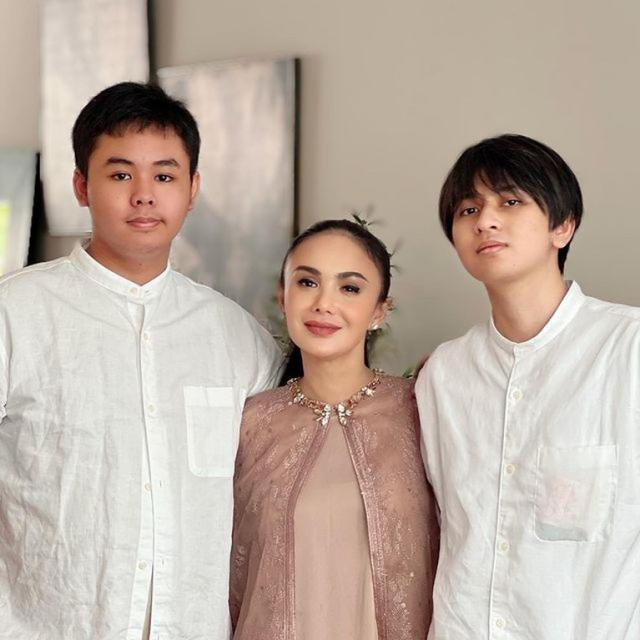sem_oculos: (74, 153, 210, 197), (439, 180, 577, 221), (277, 262, 394, 310)
